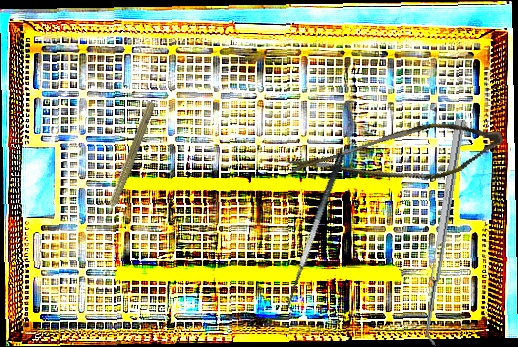Handpiece: (96, 99, 158, 228)
Micro Scissor: (285, 92, 508, 224)
Spatula Surgical: (277, 152, 359, 315), (420, 118, 474, 347)
